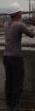hard-hat: (3, 1, 20, 14)
